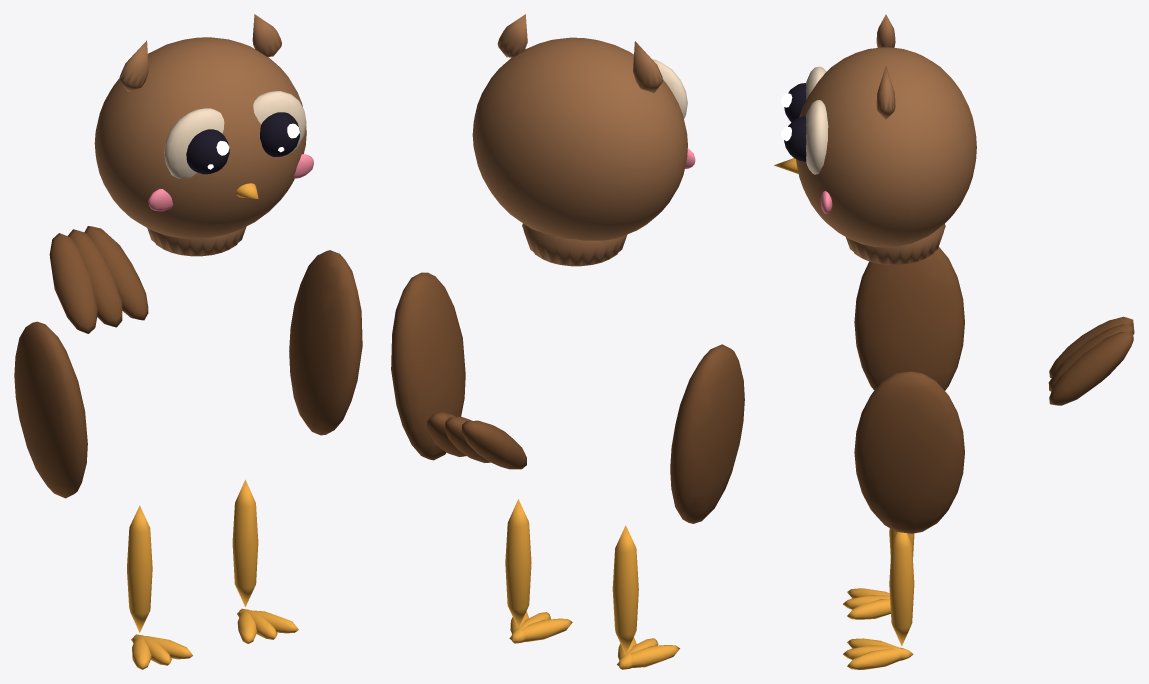
Rendered from tb_dyr_ugle.glb.
3 views of the same model, side by side, from view 1: azimuth 30°, elevation 25°; view 2: azimuth 150°, elevation 25°; view 3: azimuth 270°, elevation 25° (orthographic). The views are drawn at different scales.
Visible parts, largest first — view 1: hode, vinge_h, vinge_v, hale, bein_vf, bein_hf; view 2: hode, vinge_h, vinge_v, bein_hf, bein_vf, hale; view 3: hode, vinge_h, vinge_v, hale, bein_hf, bein_vf.
Boxes of the visible parts, x1,y1,x2,y2 form: hode: [94, 14, 313, 256]; vinge_h: [289, 250, 362, 435]; vinge_v: [14, 321, 87, 498]; hale: [49, 226, 148, 333]; bein_vf: [127, 505, 192, 669]; bein_hf: [232, 479, 298, 643]; hode: [472, 14, 695, 266]; vinge_h: [391, 272, 465, 460]; vinge_v: [670, 344, 744, 523]; bein_hf: [505, 499, 572, 643]; bein_vf: [612, 525, 679, 669]; hale: [427, 412, 526, 469]; hode: [774, 14, 976, 264]; vinge_h: [854, 371, 964, 533]; vinge_v: [854, 246, 964, 390]; hale: [1048, 316, 1134, 405]; bein_hf: [843, 532, 914, 669]; bein_vf: [843, 528, 914, 619].
Bounding box in the file's own units: 0.9133 × 1.67 × 0.9137.
